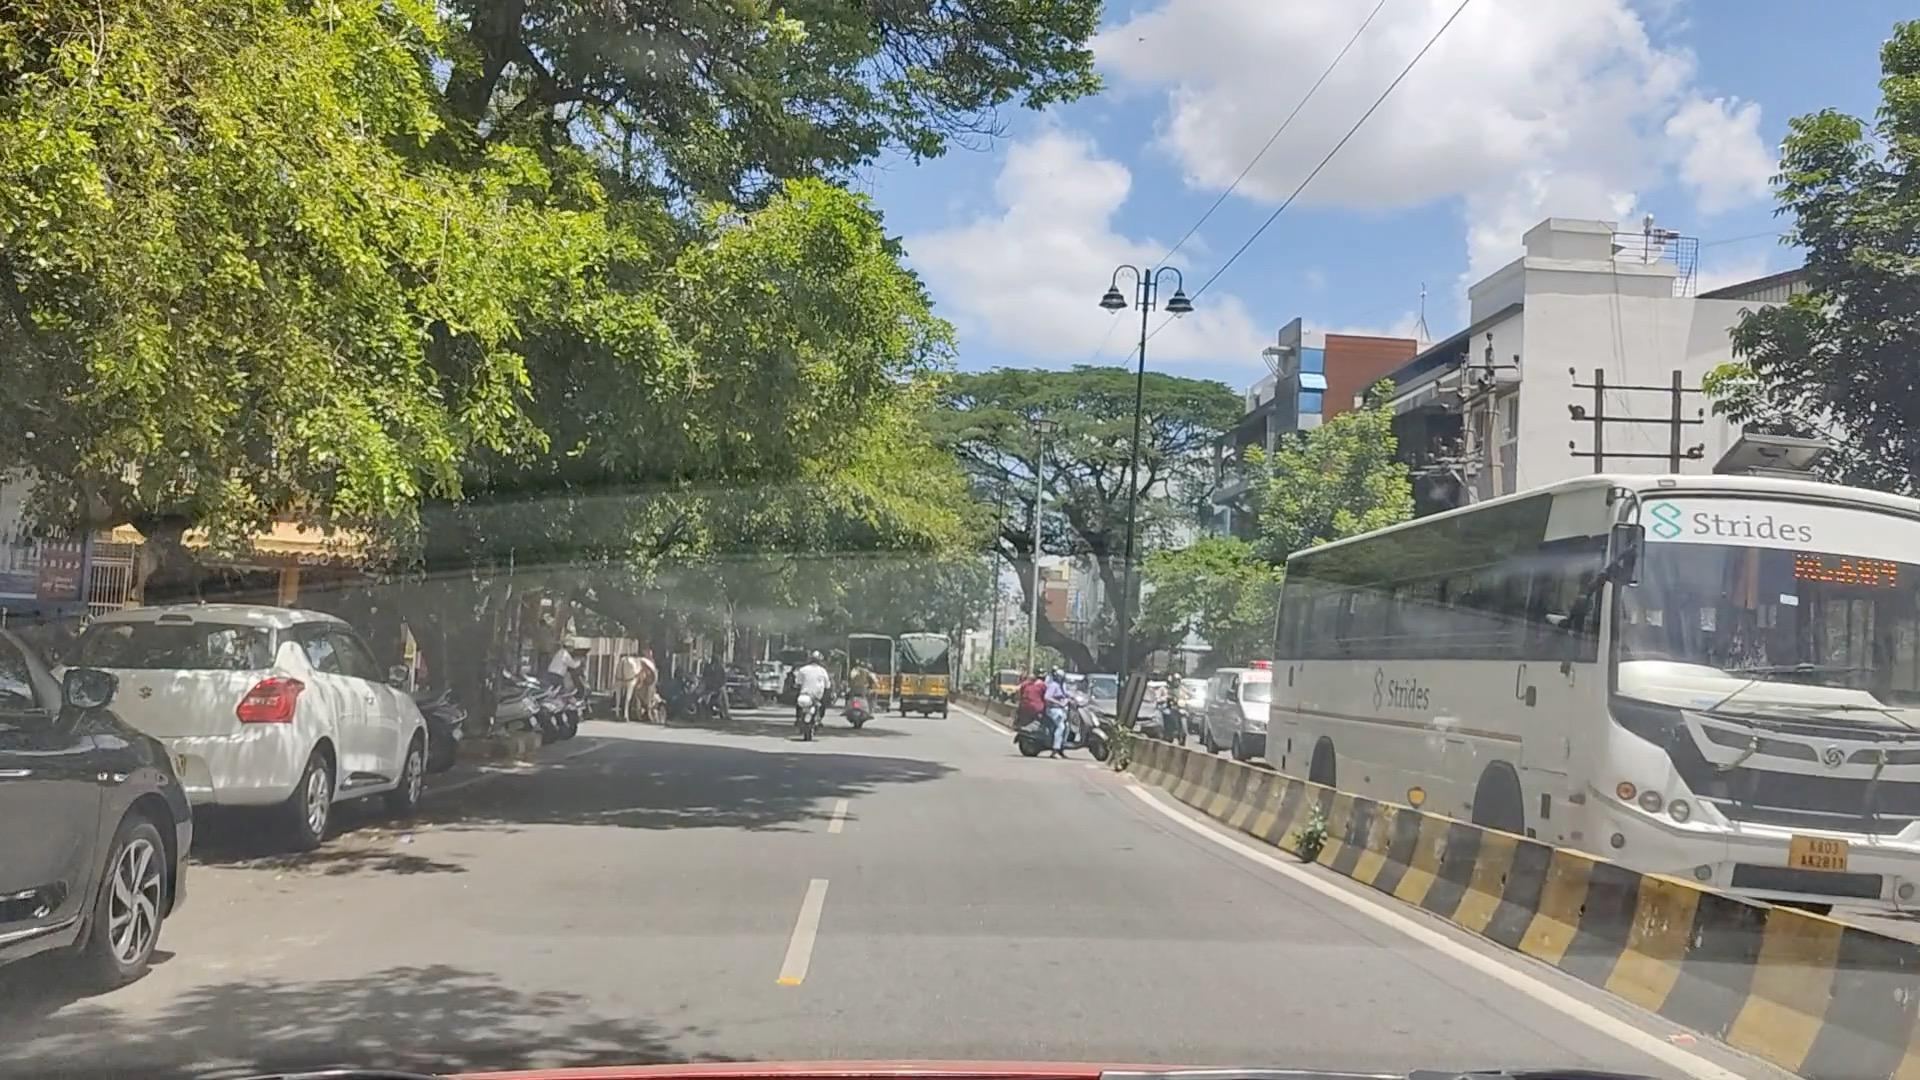LMV: (990, 674, 1105, 749)
